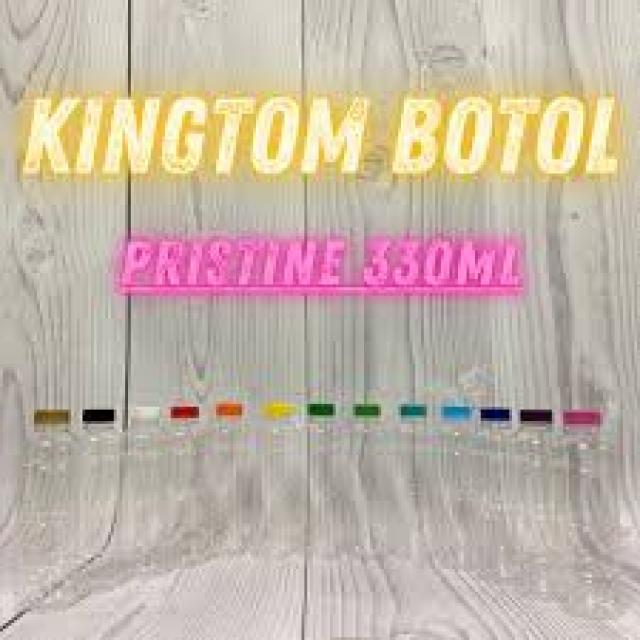good: (552, 402, 624, 616), (425, 392, 497, 600), (10, 403, 79, 618), (62, 402, 134, 608), (108, 395, 178, 606), (326, 394, 407, 576), (151, 388, 217, 589), (508, 403, 574, 604), (249, 390, 318, 576), (376, 393, 444, 581), (293, 394, 355, 578), (467, 405, 529, 589), (200, 398, 262, 577)
